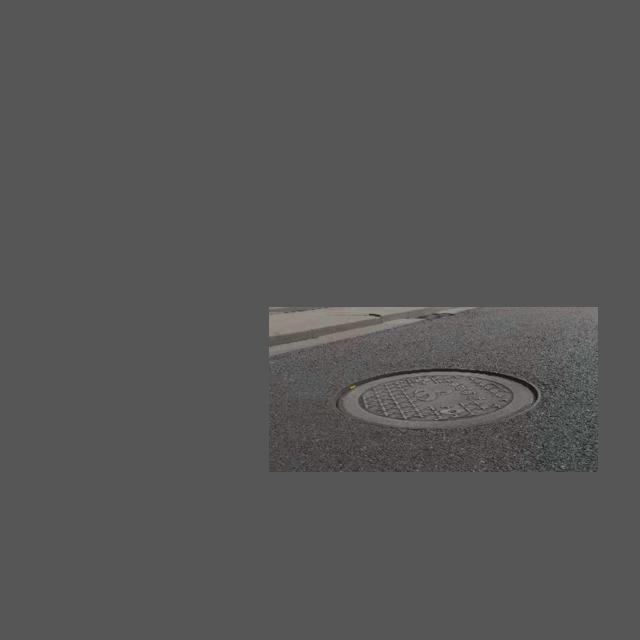good: (325, 363, 545, 436)
